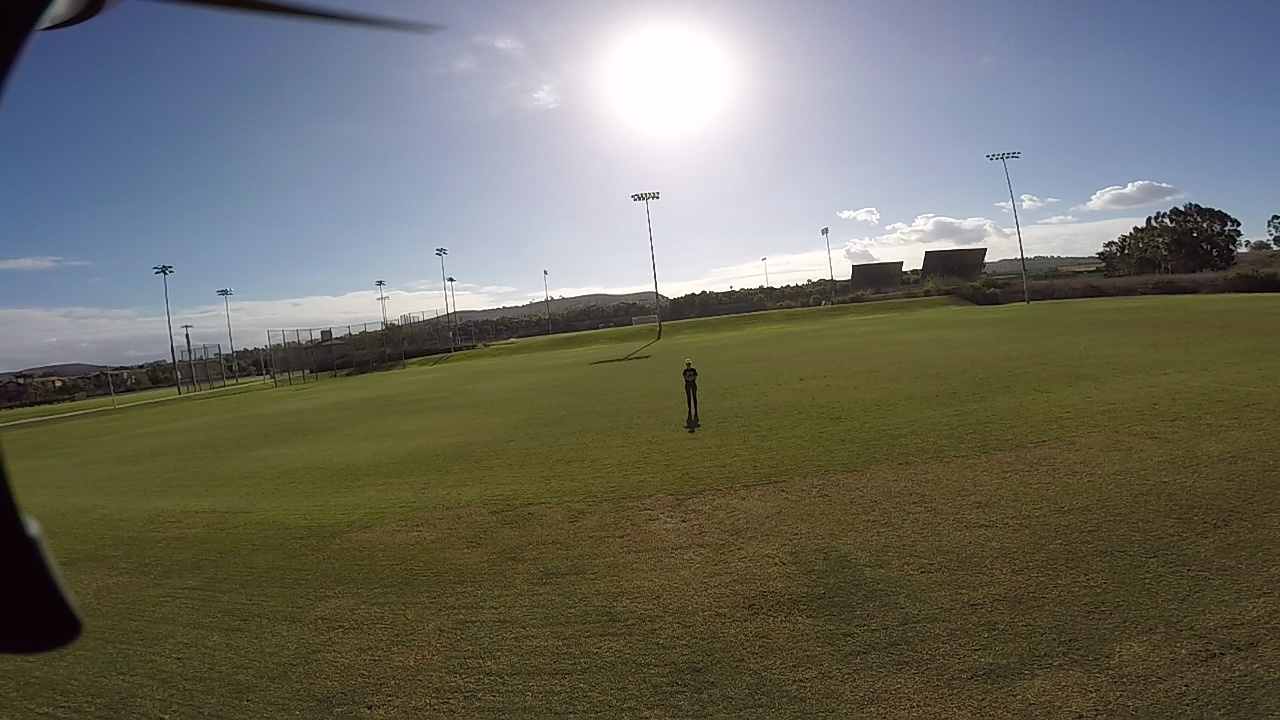person: (675, 353, 696, 422)
